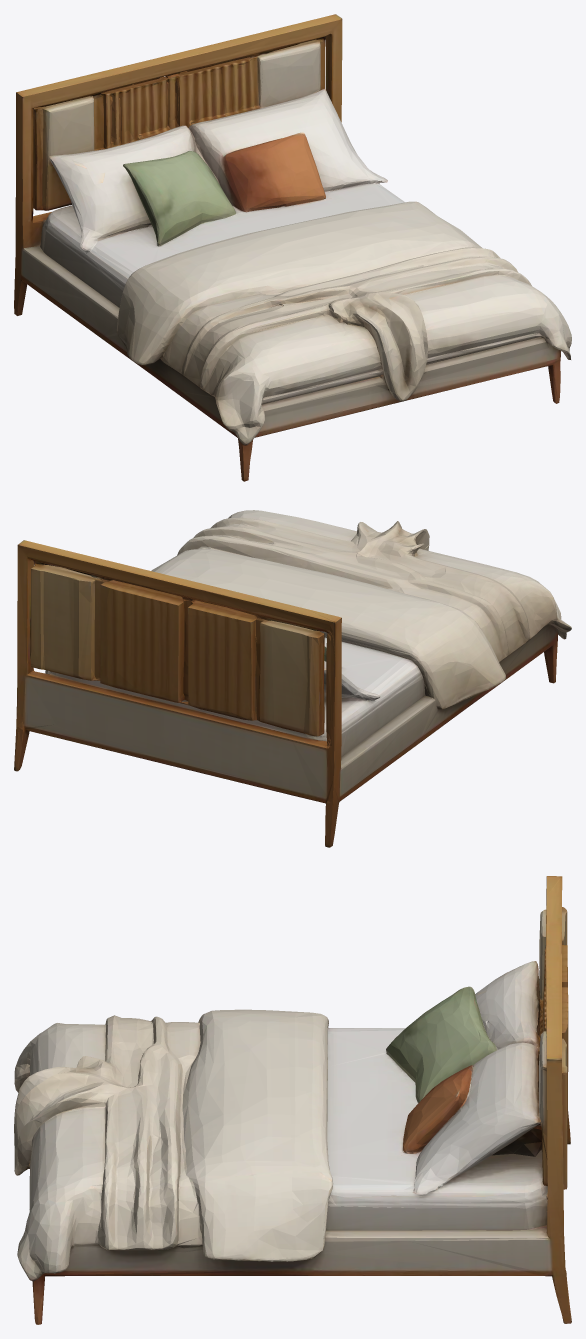
Rendered from bed_double.glb.
3 views of the same model, one above another, from view 1: azimuth 30°, elevation 25°; view 2: azimuth 150°, elevation 25°; view 3: azimuth 270°, elevation 25° (orthographic). The views are drawn at different scales.
Parts seen in each view (by area): view 1: geometry_0; view 2: geometry_0; view 3: geometry_0.
Part boxes in pixels (x1,y1,x2,y2): geometry_0: [14, 14, 571, 481]; geometry_0: [14, 510, 571, 847]; geometry_0: [14, 876, 571, 1324].
Bounding box in the file's own units: 0.8975 × 0.5214 × 0.992.
1 material, 1 textured.
